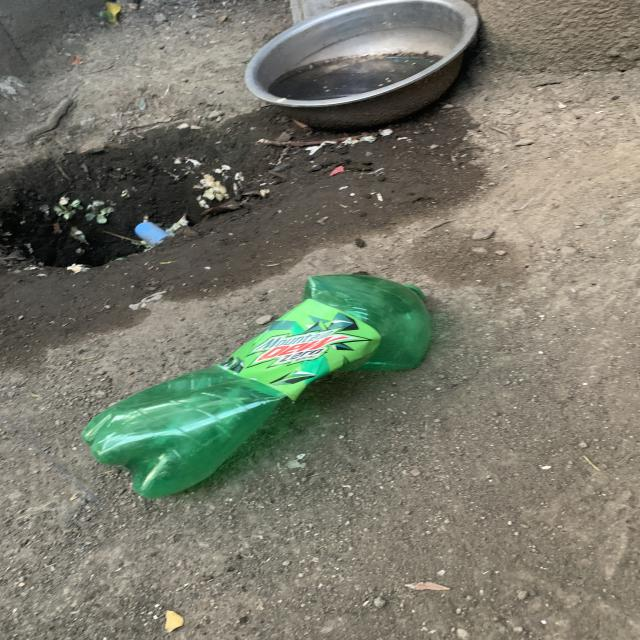Bottle: (82, 273, 431, 499)
